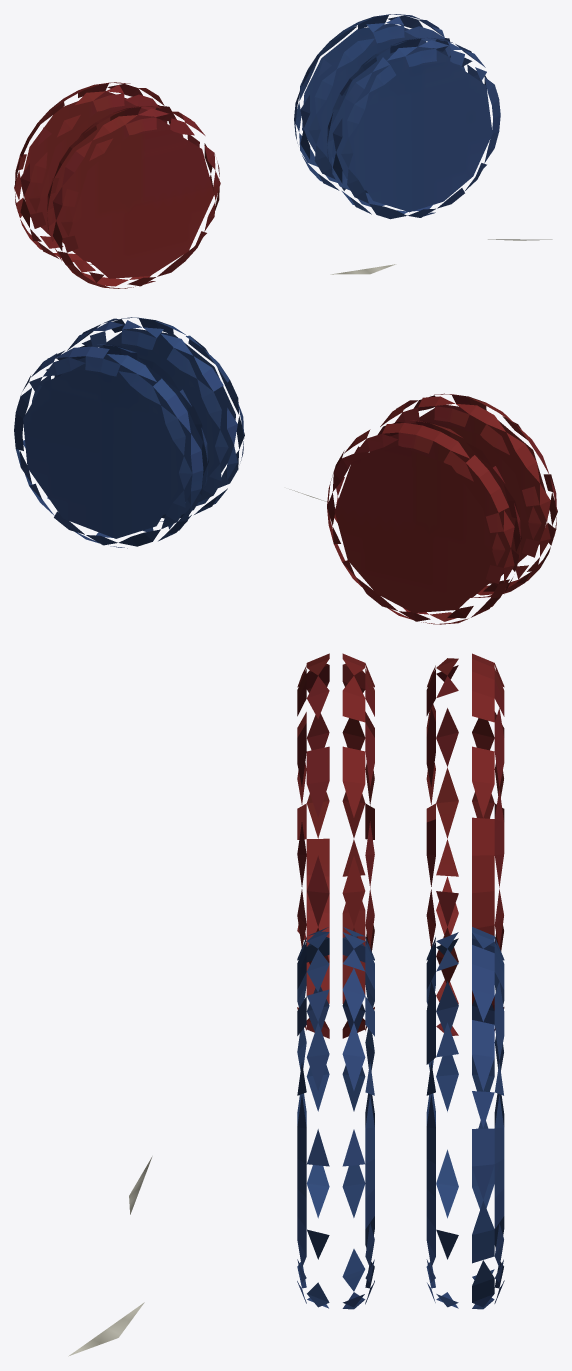
Rendered from TY20_YoYo.glb.
3 renders of one model, top to bottom at view 1: azimuth 30°, elevation 25°; view 2: azimuth 150°, elevation 25°; view 3: azimuth 270°, elevation 25°, orthographic. The views are drawn at different scales.
Visible parts, largest first — view 1: TY20_YoYo; view 2: TY20_YoYo; view 3: TY20_YoYo.
Boxes of the visible parts, left/top/right/bottom form: TY20_YoYo: left=14, top=14, right=552, bottom=288; TY20_YoYo: left=14, top=317, right=557, bottom=624; TY20_YoYo: left=68, top=653, right=504, bottom=1356.
Size of the model in its own units: 0.0878 by 0.0329 by 0.0373.
Materials: 4 (4 with a texture image).
